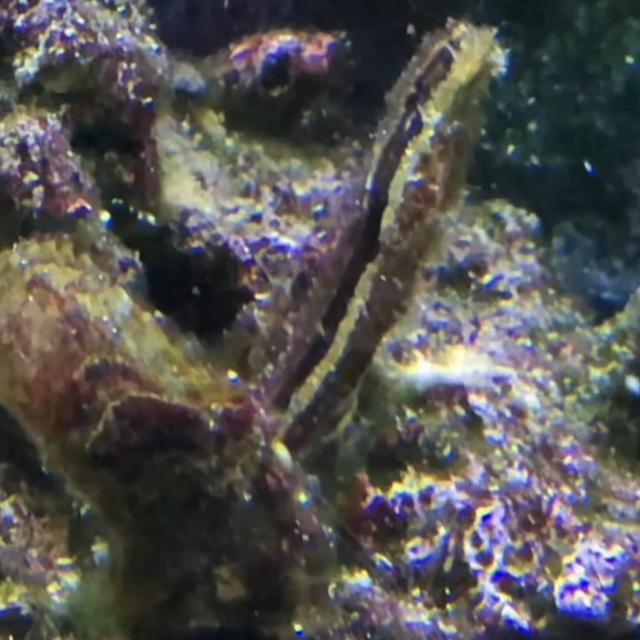Oyster-Closed: (221, 22, 506, 460)
Oyster-Indeterminate: (0, 237, 300, 596)
